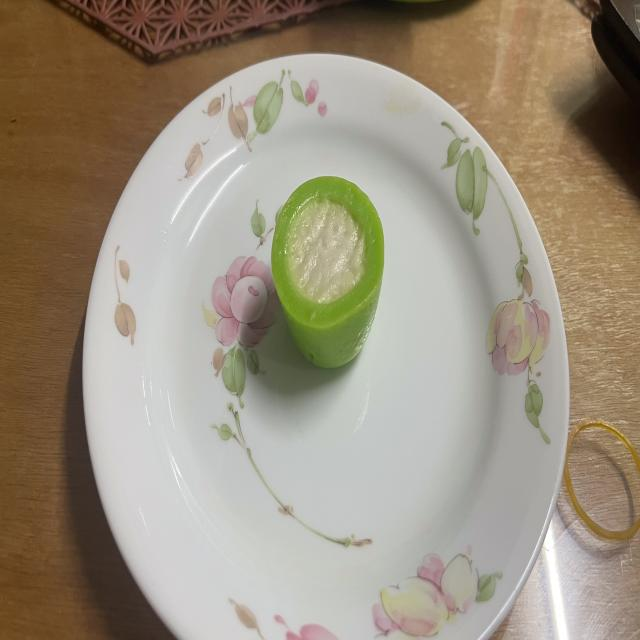nona-manis: (271, 176, 384, 367)
